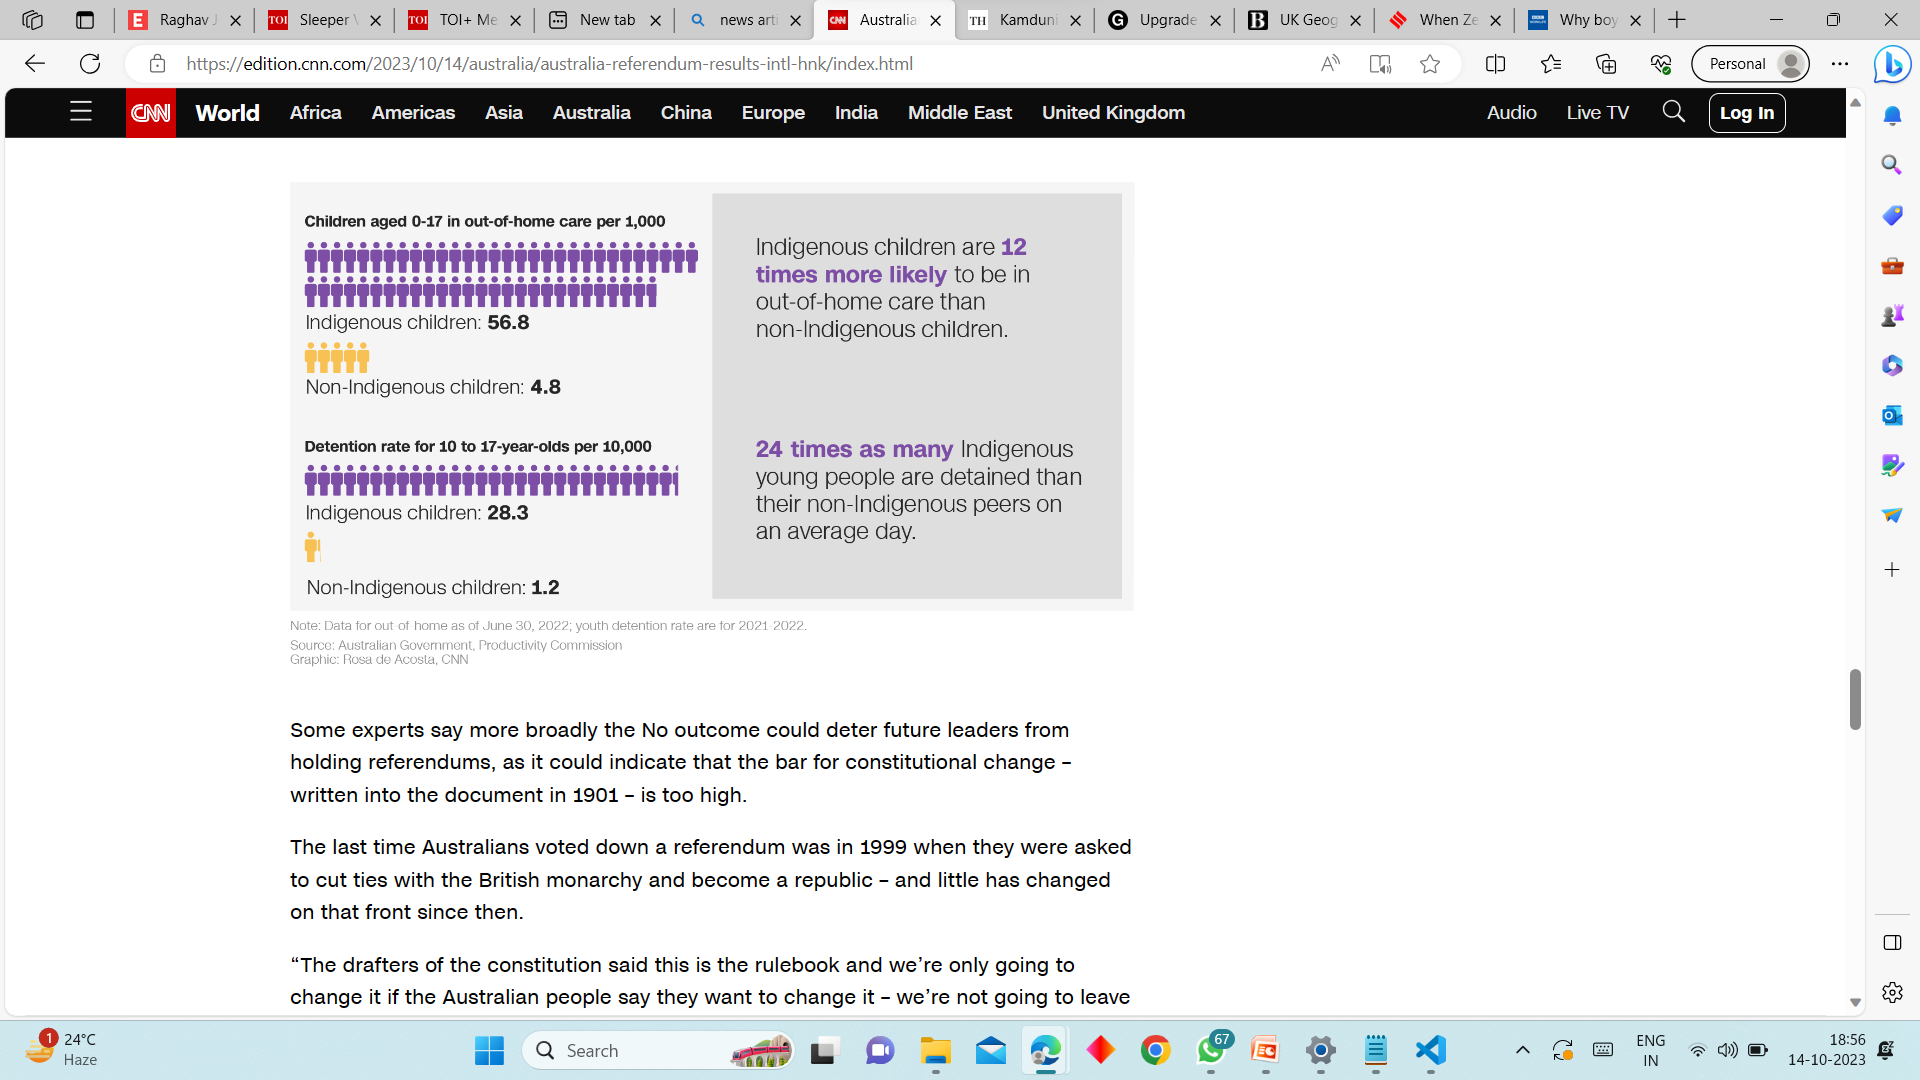Image: (284, 199, 1138, 599), (51, 74, 119, 141), (1643, 83, 1699, 145), (123, 80, 179, 134)
Paragraph: (284, 825, 1158, 937), (284, 709, 1131, 807), (293, 950, 1136, 1004), (284, 613, 839, 682), (1029, 89, 1210, 121), (906, 92, 1022, 136), (275, 92, 356, 154), (186, 94, 266, 143), (733, 89, 821, 127), (550, 92, 646, 125), (376, 96, 454, 136), (830, 83, 888, 132), (1706, 96, 1796, 127), (1480, 87, 1541, 132), (481, 92, 543, 132), (1565, 92, 1626, 132), (648, 92, 724, 116)
